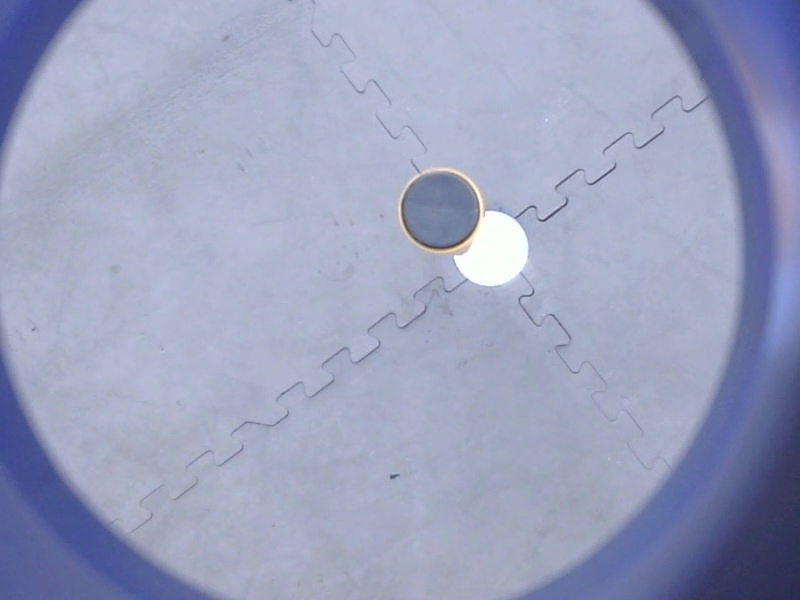tip: (393, 163, 489, 257)
